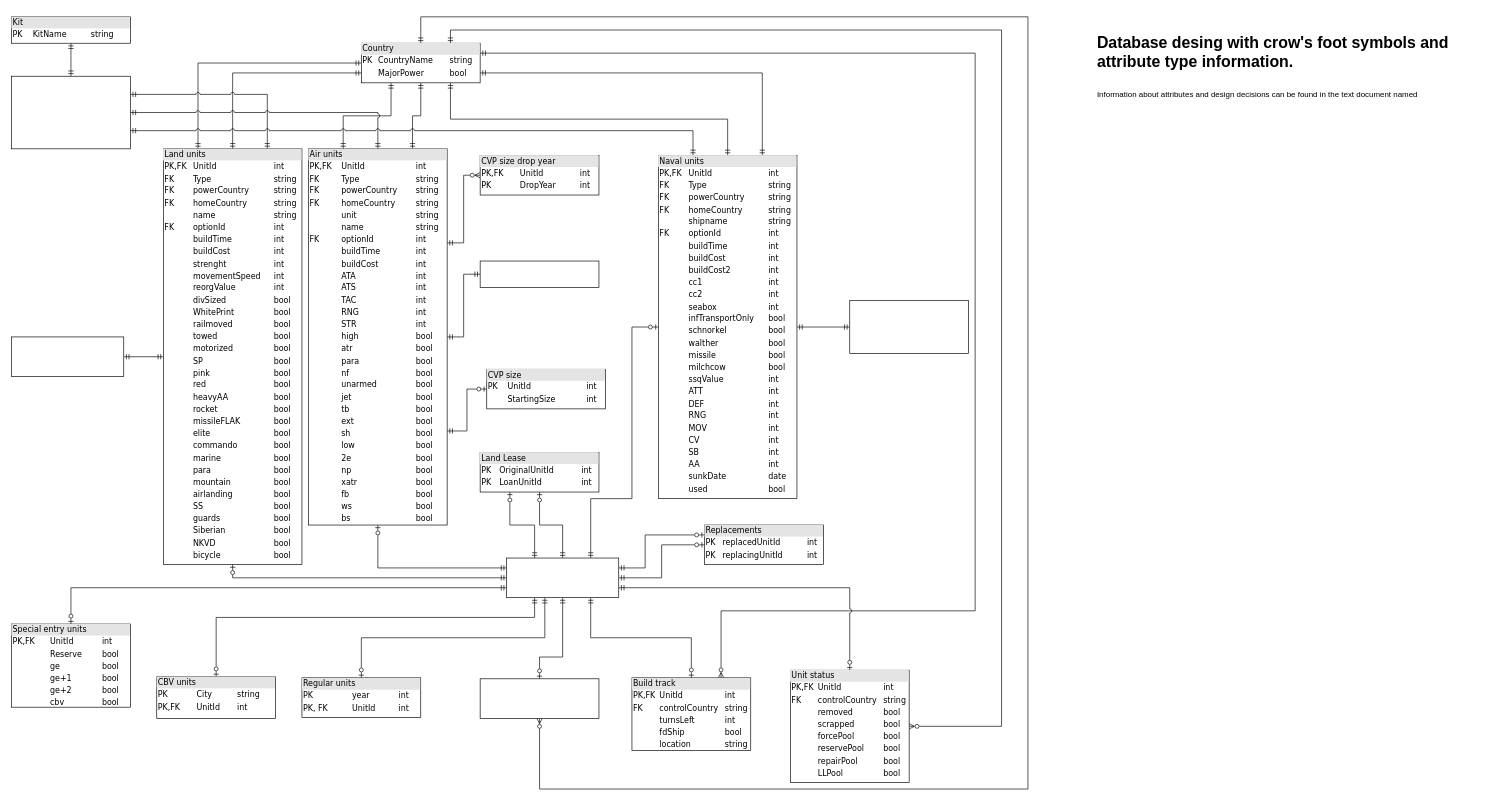
Some shapes in this 1495 by 807 pixel diagram are drawn without their labels. The shapes that lost their labels are listed below. From the top down, each one's centre as x and y in pixels, then its label:
At point (70, 112): "Option PK id int Number int Name string Description string FK KitName string".
At point (539, 273): "Air unit type PK Type string".
At point (909, 326): "Naval unit type PK Type2 string Type string Class string".
At point (67, 356): "Land unit type PK Type string Class string".
At point (562, 577): "UnitId PK UnitId int".
At point (539, 698): "UnitOnMap PK,FK UnitId int FK controlCountry string".
